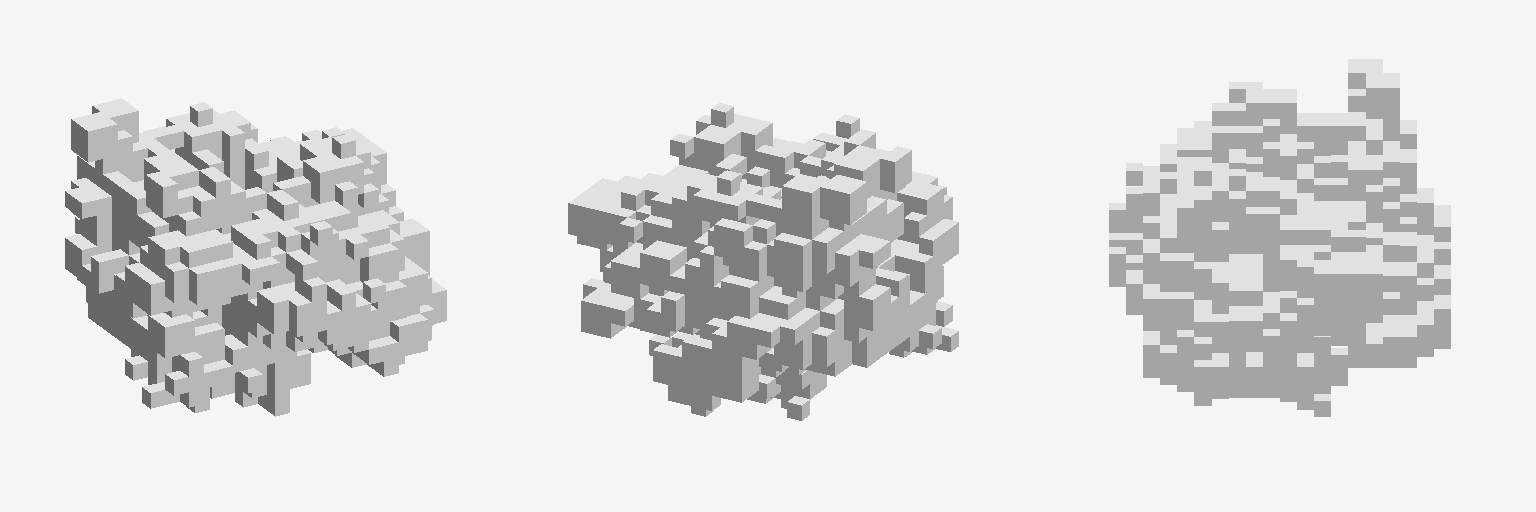
The model's file is start_end-25.obj.
3 views of the same model, side by side, from view 1: azimuth 30°, elevation 25°; view 2: azimuth 150°, elevation 25°; view 3: azimuth 270°, elevation 25° (orthographic).
Parts seen in each view (by area): view 1: object 1; view 2: object 1; view 3: object 1.
Boxes of the visible parts, <box> form: object 1: <box>65,98,446,416</box>; object 1: <box>568,103,958,420</box>; object 1: <box>1109,59,1450,416</box>.
Size of the model in its own units: 2 by 1.7 by 2.